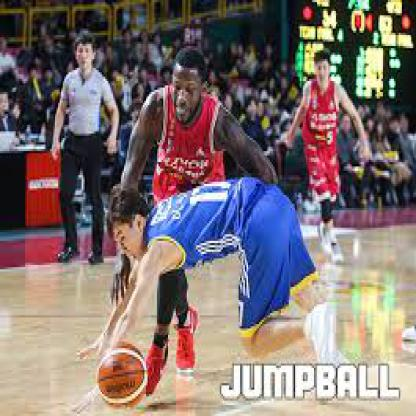Fall_Down: (78, 172, 354, 389)
